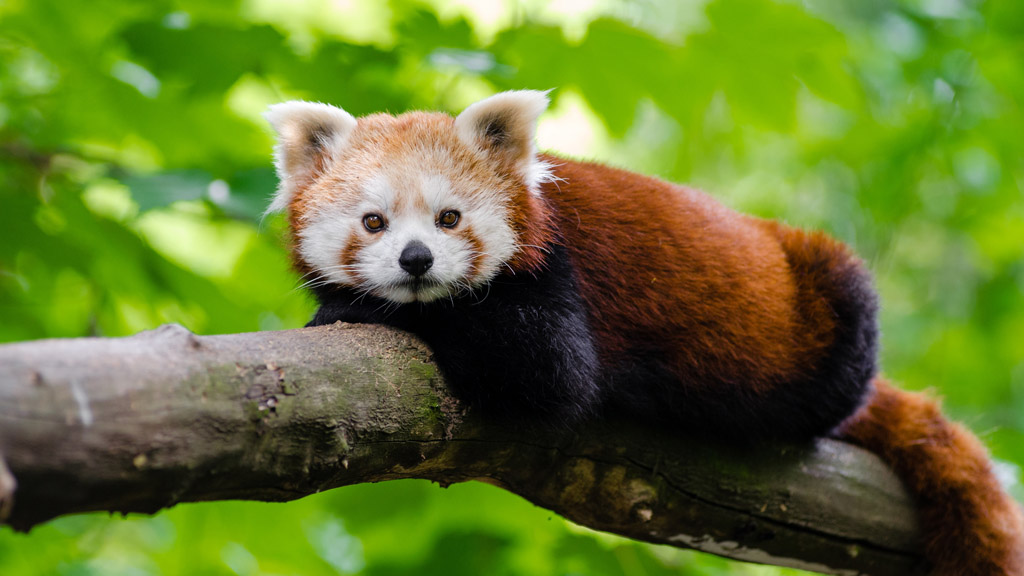raccoon: (258, 78, 1023, 571)
